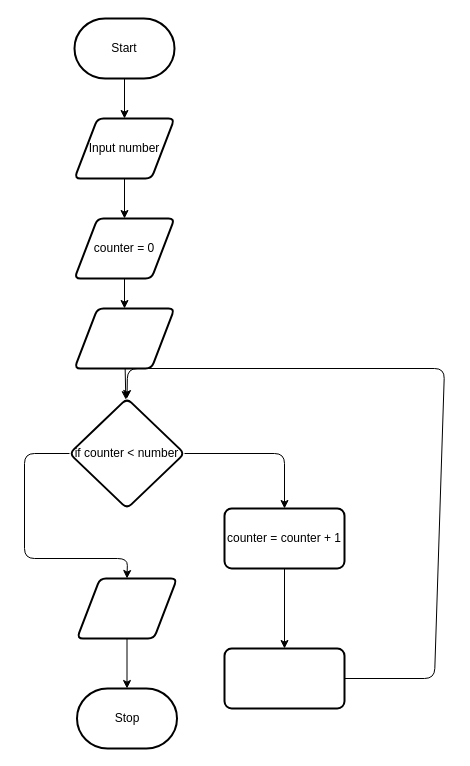
Some shapes in this 470 by 766 pixel diagram are drawn without their labels. Each missing label, with the centre of its shape:
"answer = 0" belongs at point 124,338.
"answer = answer + counter" belongs at point 284,678.
"Output answer" belongs at point 127,608.
